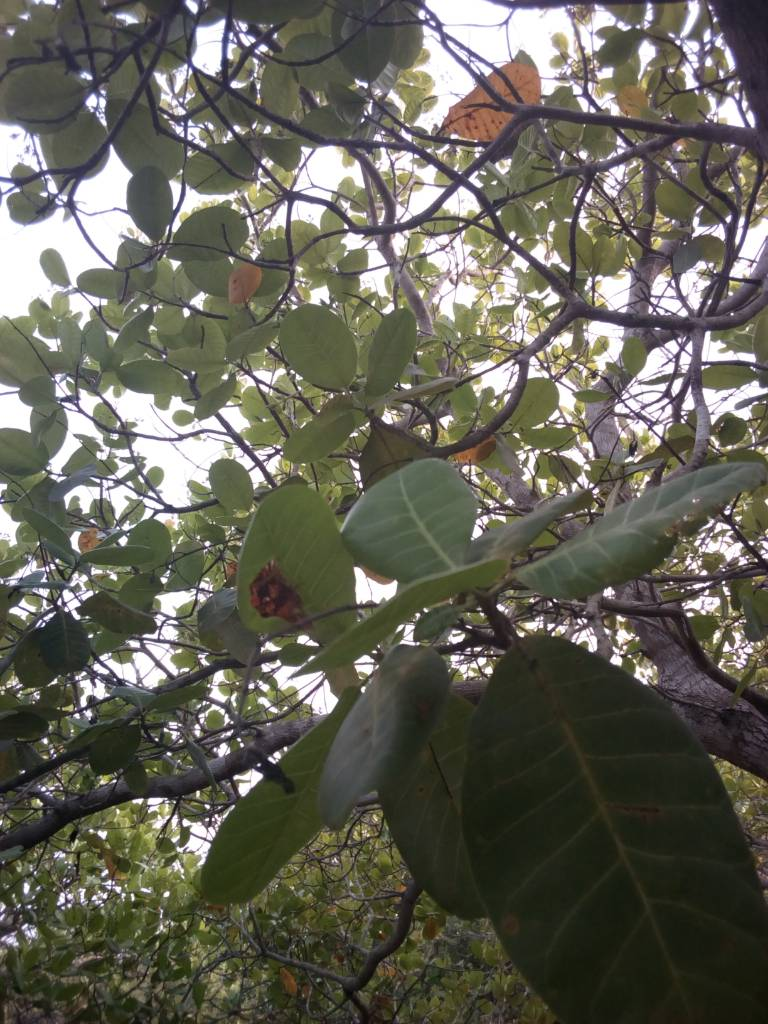Anthracnose: (469, 635, 768, 1024)
